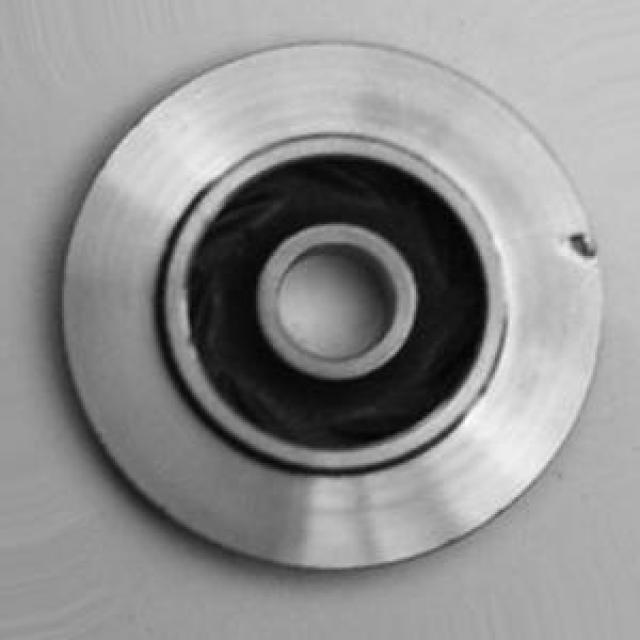Defect: (565, 222, 606, 277)
